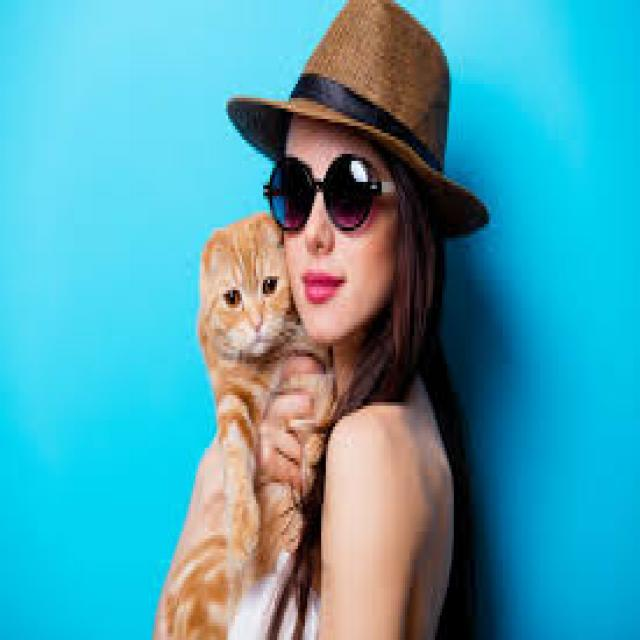Cat: (152, 209, 325, 640)
